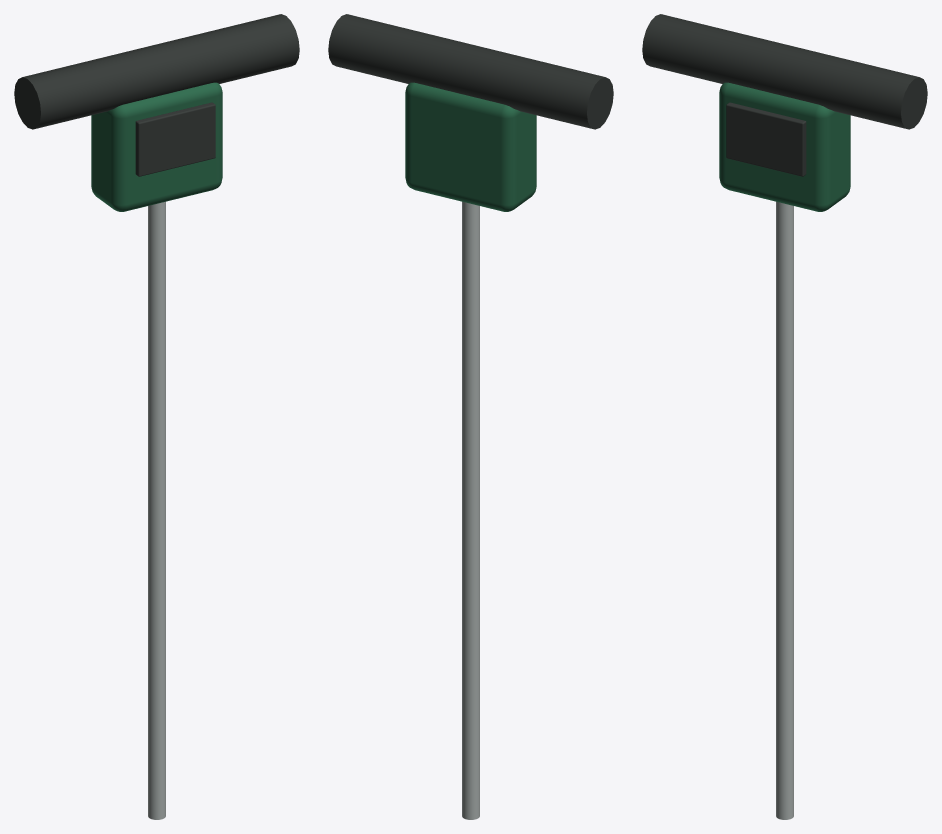
The model's file is cricket-ground-and-pavilion-pitch-moisture-probe-846a8a3a__31341.glb.
3 renders of one model, left to right at view 1: azimuth 30°, elevation 25°; view 2: azimuth 150°, elevation 25°; view 3: azimuth 330°, elevation 25°, orthographic.
Visible parts, largest first — view 1: pitch-moisture-probe; view 2: pitch-moisture-probe; view 3: pitch-moisture-probe.
Part boxes in pixels (<box>): pitch-moisture-probe: <box>14,14,299,819</box>; pitch-moisture-probe: <box>328,14,613,819</box>; pitch-moisture-probe: <box>642,14,927,819</box>.
Size of the model in its own units: 0.2 by 0.568 by 0.0475.
